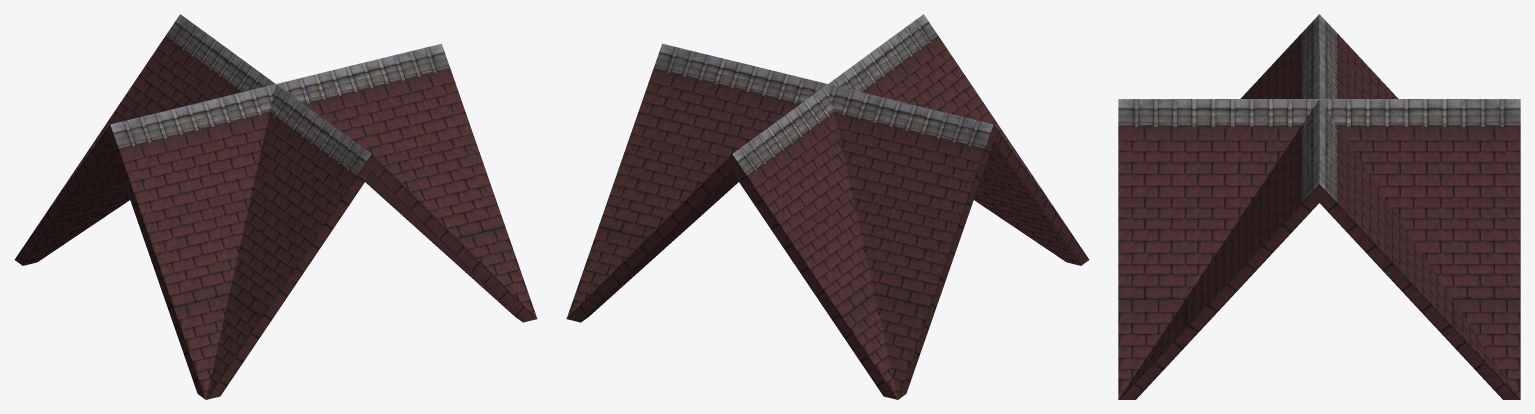
The model's file is rooftop_cross_junction_01.fbx.
The picture shows the model from 3 angles, left to right: view 1: azimuth 30°, elevation 25°; view 2: azimuth 150°, elevation 25°; view 3: azimuth 270°, elevation 25°; orthographic projection. The views are drawn at different scales.
Parts seen in each view (by area): view 1: rooftop_cross_junction_01; view 2: rooftop_cross_junction_01; view 3: rooftop_cross_junction_01.
Part boxes in pixels (box(x1,y1,x2,y2)): rooftop_cross_junction_01: box(14, 14, 537, 399); rooftop_cross_junction_01: box(566, 14, 1089, 399); rooftop_cross_junction_01: box(1118, 14, 1520, 399).
Bounding box in the file's own units: 2400 × 1421 × 2400.
